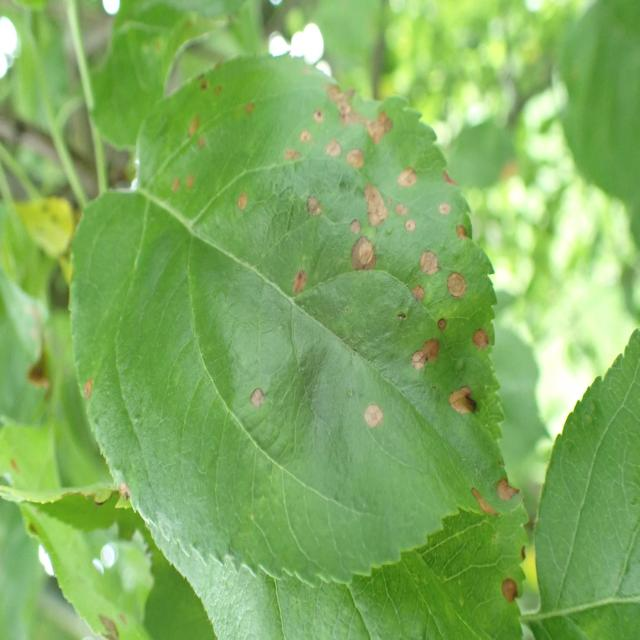Black Rot: (451, 456, 534, 536), (321, 67, 393, 159), (335, 194, 374, 280), (432, 190, 472, 257), (360, 182, 398, 247), (164, 173, 211, 222), (354, 394, 393, 453), (402, 333, 448, 383), (444, 376, 484, 431), (298, 188, 336, 245), (275, 122, 315, 174), (345, 134, 377, 187), (442, 260, 470, 314), (392, 156, 425, 199), (318, 124, 346, 174), (243, 366, 266, 426), (496, 570, 526, 616), (282, 265, 317, 304), (417, 242, 445, 290), (230, 170, 250, 237), (187, 101, 212, 152), (238, 79, 262, 130), (462, 321, 490, 356), (392, 195, 414, 230)
